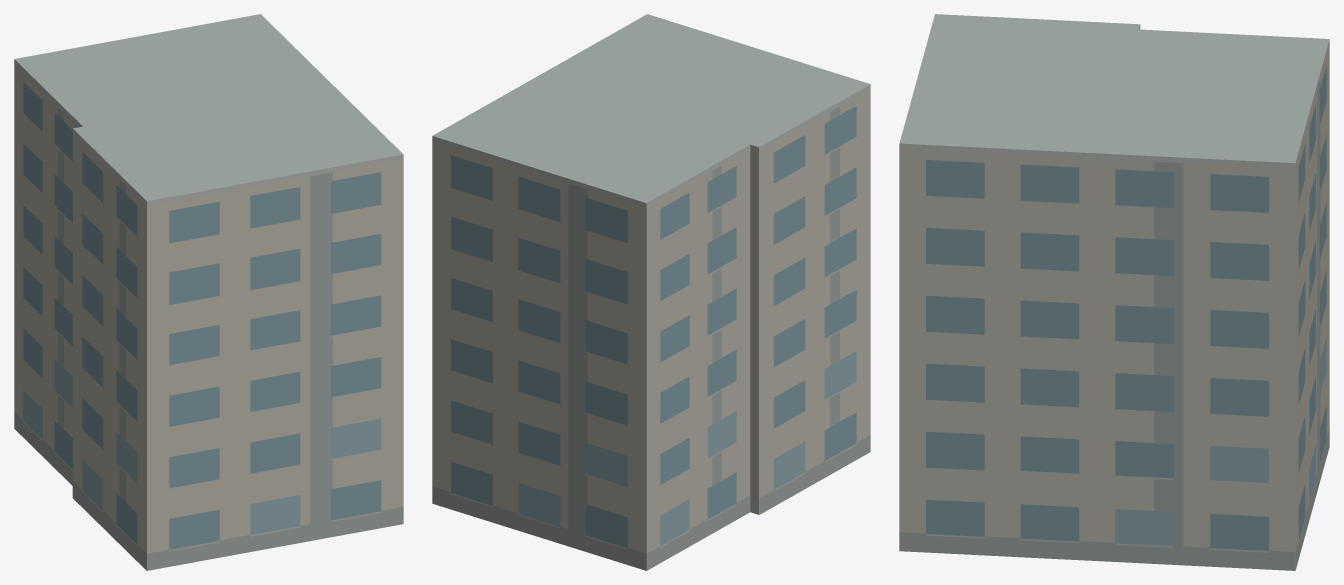
Rendered from survey-upis-32872938.glb.
3 views of the same model, side by side, from view 1: azimuth 30°, elevation 25°; view 2: azimuth 150°, elevation 25°; view 3: azimuth 270°, elevation 25° (orthographic). The views are drawn at different scales.
Parts seen in each view (by area): view 1: survey-upis-32872938.tmp; view 2: survey-upis-32872938.tmp; view 3: survey-upis-32872938.tmp.
Part boxes in pixels (bbox=[...]): survey-upis-32872938.tmp: bbox=[14, 14, 403, 570]; survey-upis-32872938.tmp: bbox=[432, 14, 870, 570]; survey-upis-32872938.tmp: bbox=[899, 14, 1329, 570].
Bounding box in the file's own units: 14.53 × 18.5 × 17.71.
